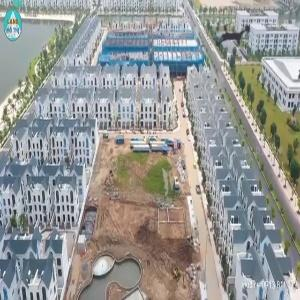drone: (197, 2, 266, 71)
